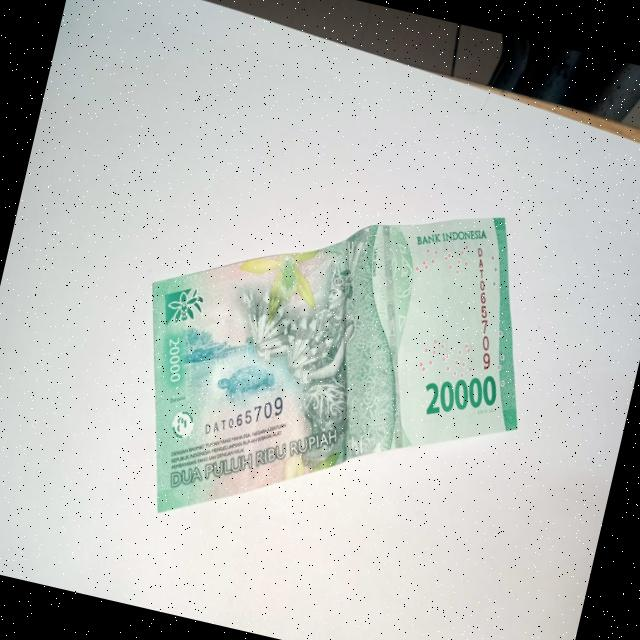20K: (92, 142, 568, 596)
